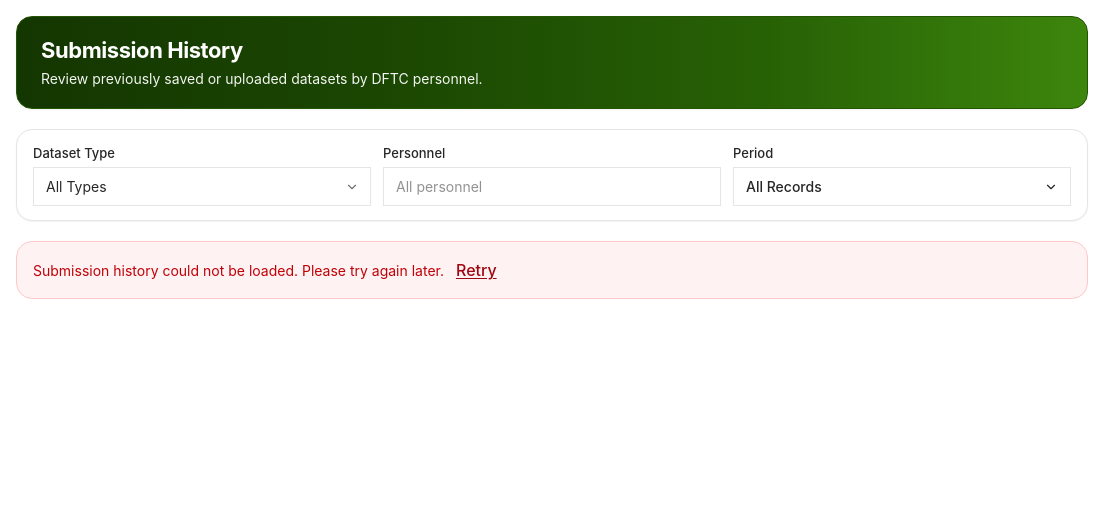
it: DFTCSubmissions error and pagination safety › recovers when Retry succeeds after a failed load
The width and height of the screenshot is (1105, 521).
Expected: the message "Submission history could not be loaded. Please try again later. Retry" is shown, [16,241,1088,299]
What coordinates should you click on to do the following:
click the button "Retry"
I would click on:
 (476, 270)
Its box is [456,258,497,282].
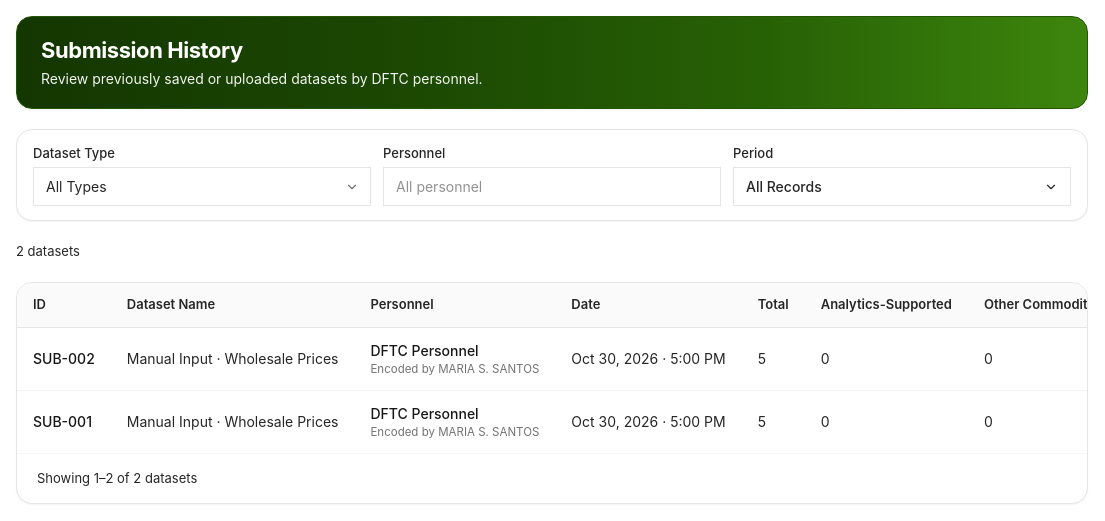
Expected: the text "SUB-002" is shown, [17,327,111,390]
Expected: the message "Submission history could not be loaded. Please try again later. Retry" is gone
